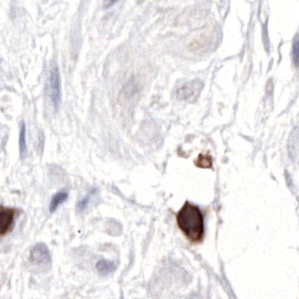Lymphocyte: (175, 200, 206, 243)
